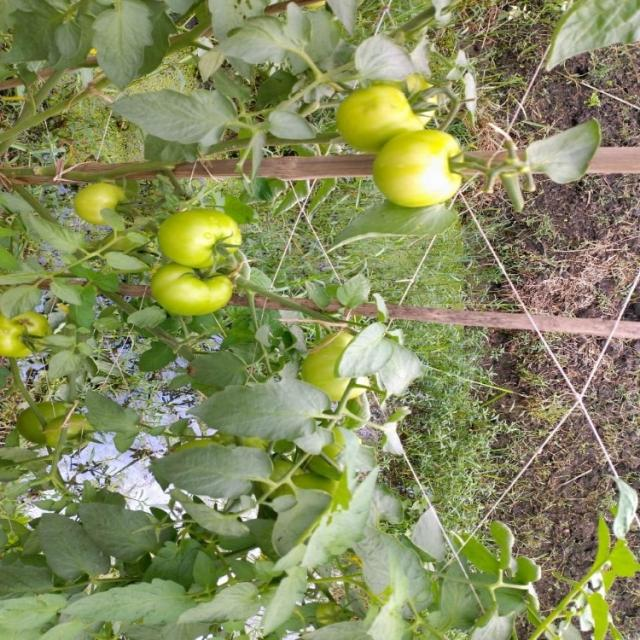tomato: (366, 128, 487, 215), (146, 210, 268, 281), (320, 75, 413, 157), (141, 261, 247, 326), (302, 330, 380, 416), (75, 176, 145, 240), (1, 310, 43, 355), (47, 413, 93, 449)
